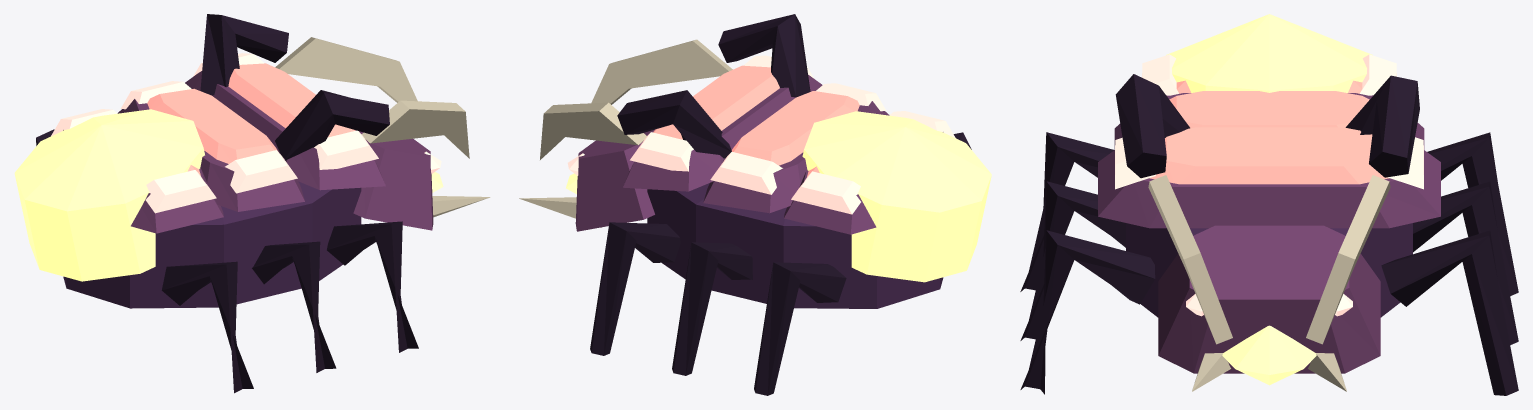
The model's file is bile_crawler.glb.
3 views of the same model, side by side, from view 1: azimuth 30°, elevation 25°; view 2: azimuth 150°, elevation 25°; view 3: azimuth 270°, elevation 25° (orthographic). The views are drawn at different scales.
Visible parts, largest first — view 1: Surf_acid, Surf_dark, Surf_chit, Surf_warm, Surf_bone, Surf_TEAM, Surf_GLOW; view 2: Surf_dark, Surf_acid, Surf_warm, Surf_chit, Surf_bone, Surf_TEAM, Surf_GLOW; view 3: Surf_dark, Surf_warm, Surf_TEAM, Surf_acid, Surf_bone, Surf_chit, Surf_GLOW.
Part boxes in pixels (<box>): Surf_acid: <box>14,109,443,281</box>; Surf_dark: <box>36,14,418,393</box>; Surf_chit: <box>63,181,361,308</box>; Surf_warm: <box>63,71,433,233</box>; Surf_bone: <box>275,37,490,226</box>; Surf_TEAM: <box>147,63,355,175</box>; Surf_GLOW: <box>51,53,441,213</box>; Surf_dark: <box>590,14,971,395</box>; Surf_acid: <box>566,111,991,282</box>; Surf_warm: <box>575,74,943,234</box>; Surf_chit: <box>647,183,943,308</box>; Surf_bone: <box>519,39,732,227</box>; Surf_TEAM: <box>653,65,859,176</box>; Surf_GLOW: <box>567,55,955,214</box>; Surf_dark: <box>1020,74,1518,395</box>; Surf_warm: <box>1098,93,1440,373</box>; Surf_TEAM: <box>1149,80,1389,184</box>; Surf_acid: <box>1166,14,1372,385</box>; Surf_bone: <box>1148,175,1390,391</box>; Surf_chit: <box>1126,223,1412,317</box>; Surf_GLOW: <box>1115,54,1423,316</box>.
Size of the model in its own units: 2.53 by 1.34 by 2.06.
